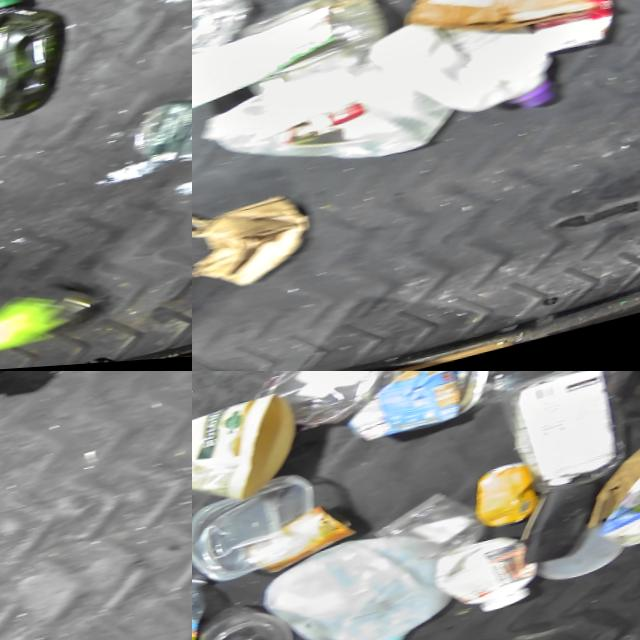can: (253, 498, 371, 581), (470, 462, 552, 541)
milk_jug: (197, 43, 468, 208), (363, 0, 572, 154), (255, 517, 474, 640)
non_white_jug: (0, 0, 84, 135)
plastic_bottle: (237, 371, 465, 448), (192, 570, 233, 640)
